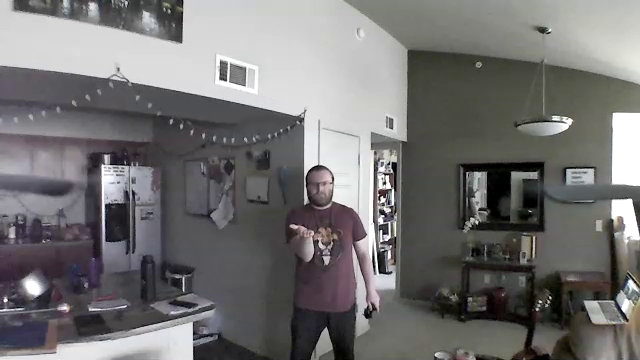land: (287, 220, 316, 242)
